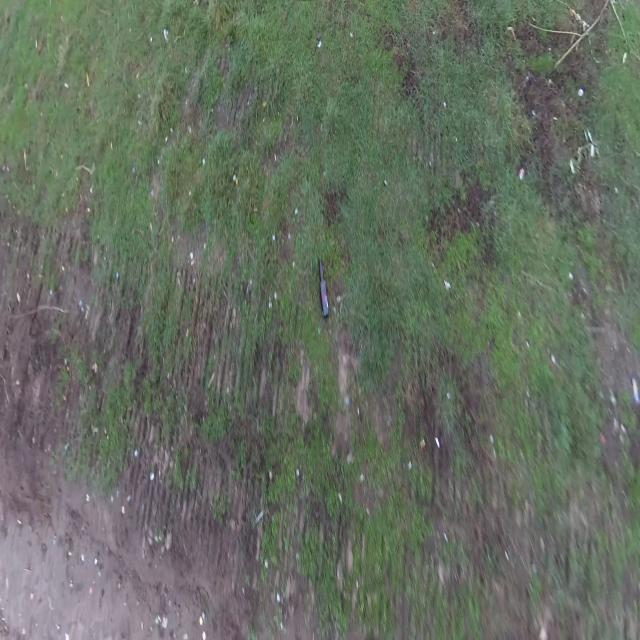rubbish: (319, 259, 331, 317)
